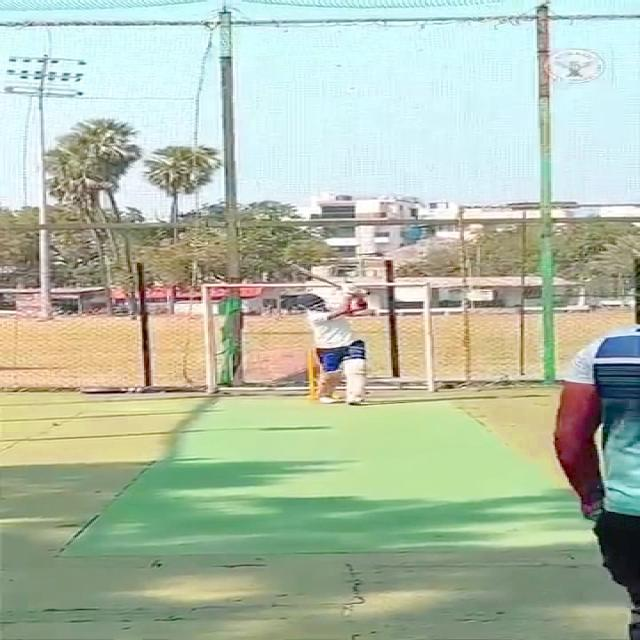batsman: (281, 255, 377, 408)
